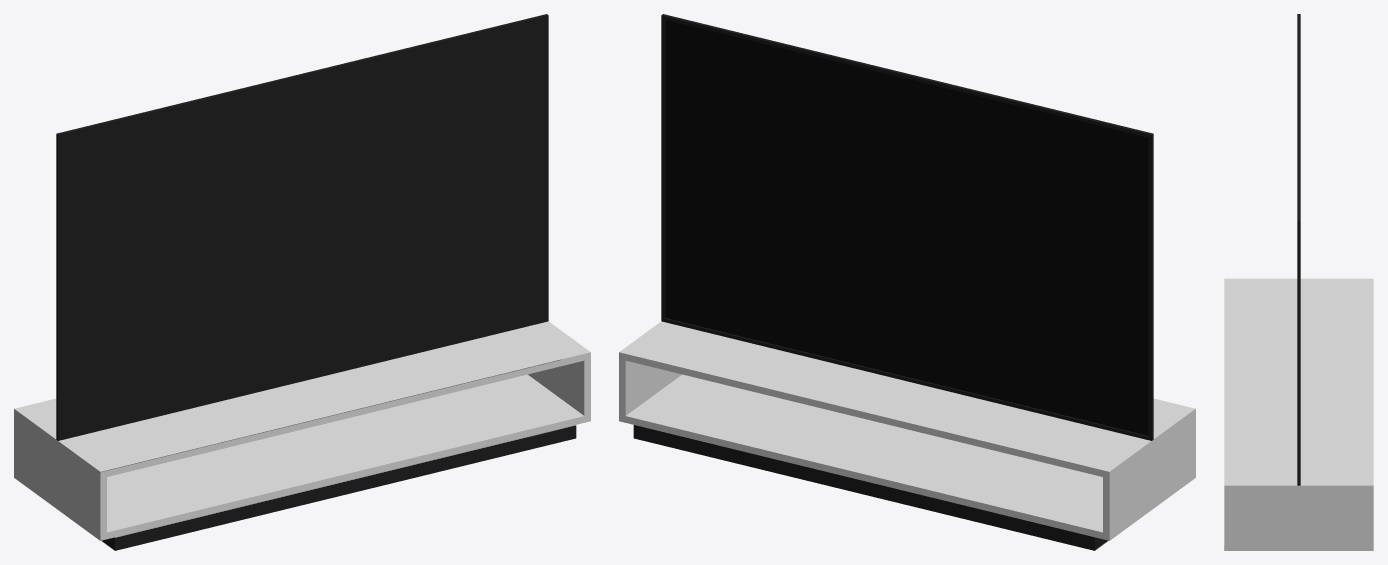
The model's file is tv_lg_oled_8k.glb.
3 renders of one model, left to right at view 1: azimuth 30°, elevation 25°; view 2: azimuth 150°, elevation 25°; view 3: azimuth 270°, elevation 25°, orthographic. The views are drawn at different scales.
Parts seen in each view (by area): view 1: TV, Table; view 2: TV, Table; view 3: Table, TV.
Part boxes in pixels (x1,y1,x2,y2): TV: [56, 14, 548, 440]; Table: [14, 321, 590, 550]; TV: [661, 14, 1153, 440]; Table: [619, 321, 1195, 550]; Table: [1224, 278, 1373, 550]; TV: [1297, 14, 1300, 485].
Size of the model in its own units: 1.51 by 1.14 by 0.46.
3 materials, 3 textured.
